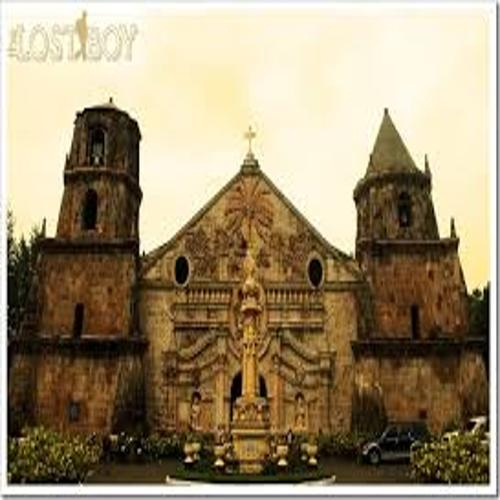Miagao Church: (43, 82, 478, 458)
